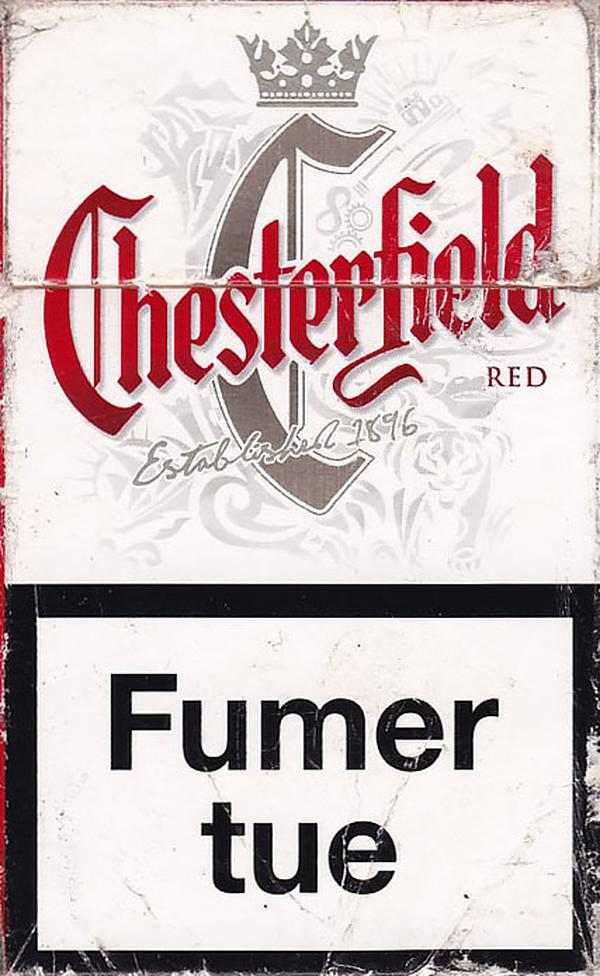chesterfield_red: (6, 3, 598, 973)
